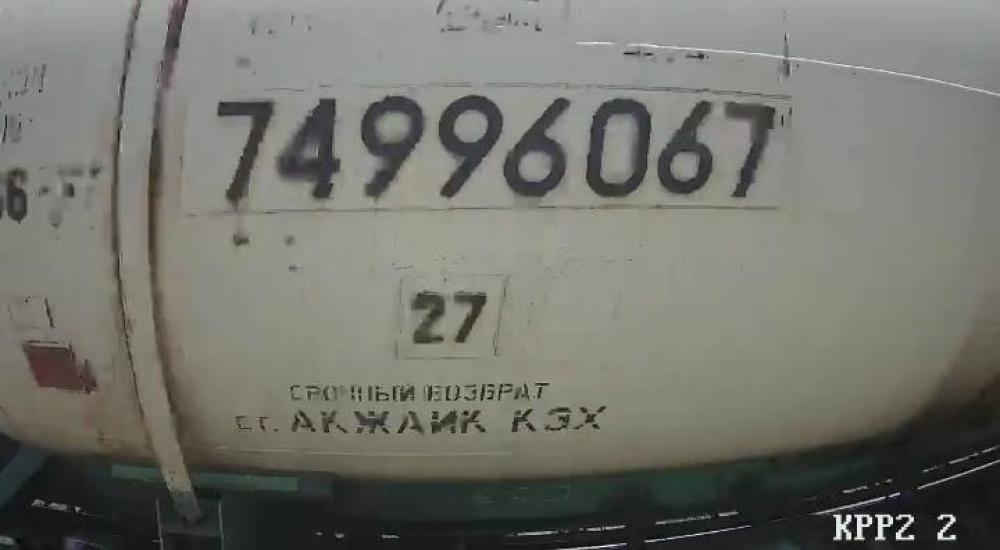Wagon-number: (204, 90, 778, 207)
